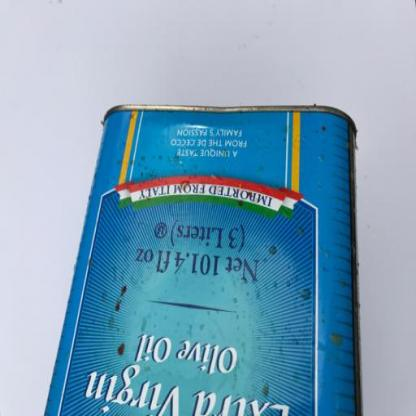Metal: (46, 105, 362, 415)
